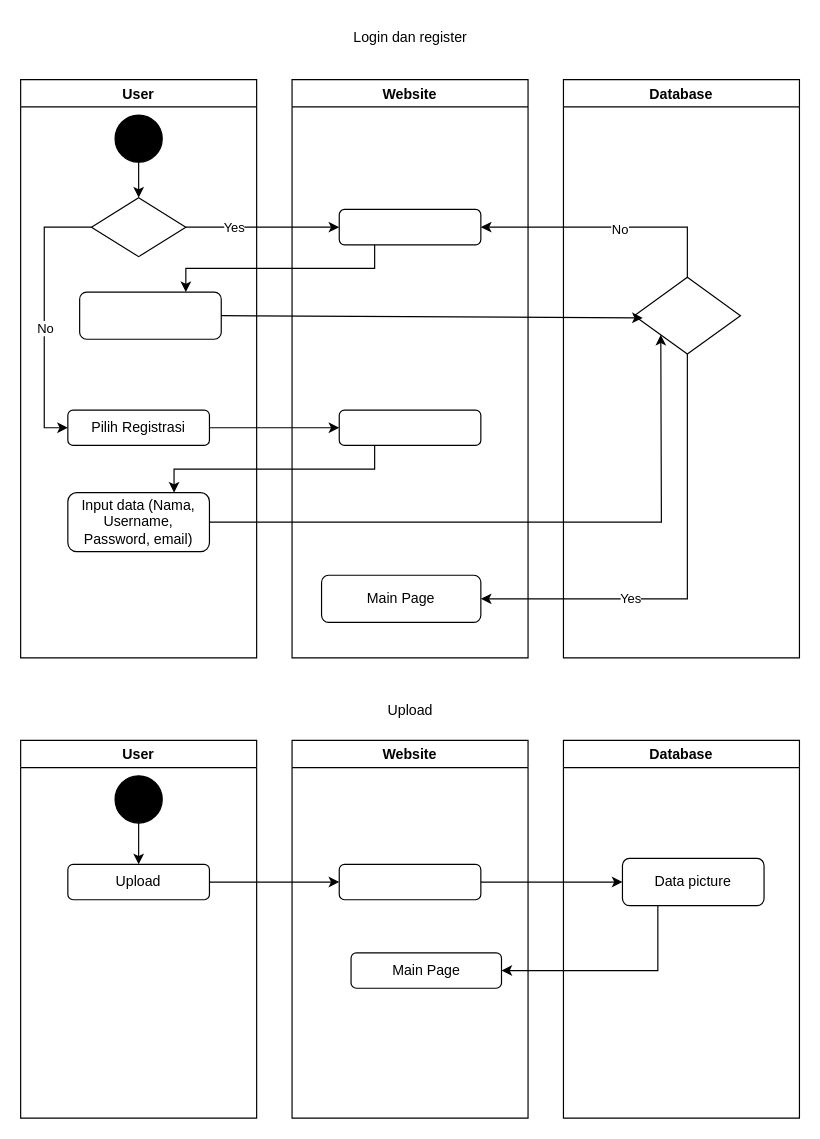
The diagram is 820 pixels wide and 1139 high, and some of its shapes have lost their labels. The shapes that lost their labels are listed below. From the top down, each one's box as (x1, y1, x2, y2) in pixels, then its label:
(90, 196, 186, 257): Pilih Login
(338, 208, 481, 245): Display login
(78, 291, 221, 339): Input Username dan Password
(633, 276, 740, 354): Data Validation
(338, 409, 481, 445): Display Registrasi
(338, 863, 481, 900): Display upload
